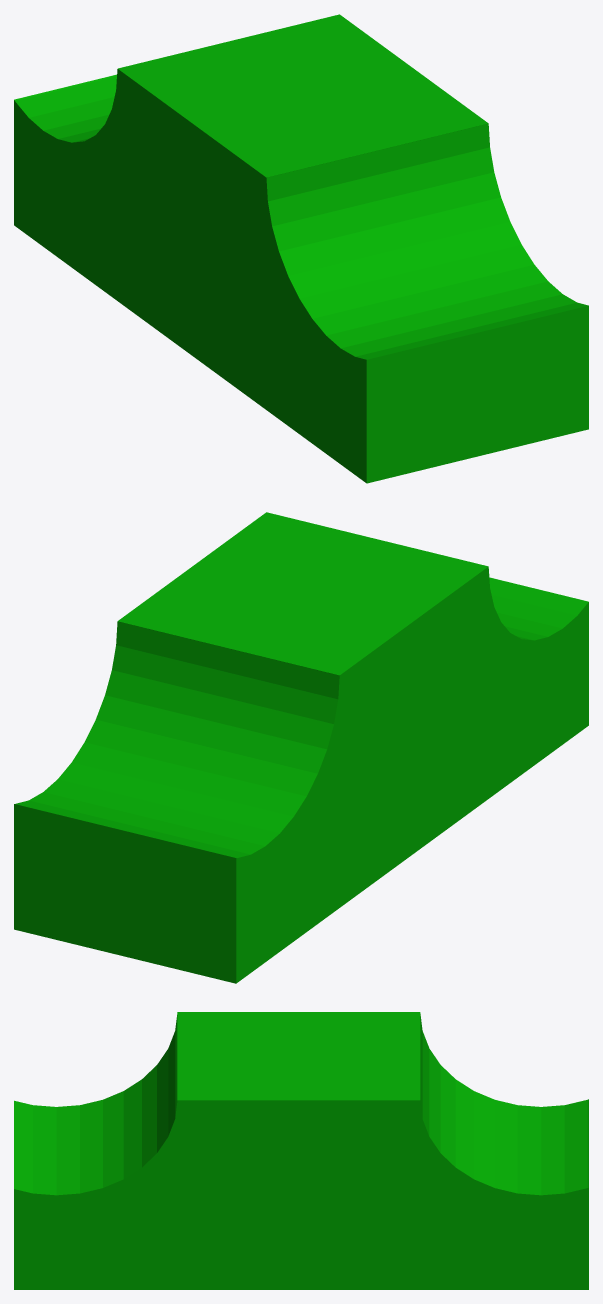
Rendered from Kloetzchen_6.fbx.
The picture shows the model from 3 angles, top to bottom: view 1: azimuth 30°, elevation 25°; view 2: azimuth 150°, elevation 25°; view 3: azimuth 270°, elevation 25°; orthographic projection. The views are drawn at different scales.
Visible parts, largest first — view 1: B; view 2: B; view 3: B.
Boxes of the visible parts, left/top/right/bottom form: B: left=14, top=14, right=588, bottom=483; B: left=14, top=512, right=588, bottom=983; B: left=14, top=1012, right=588, bottom=1289.
Bounding box in the file's own units: 2 × 2 × 5.5.
